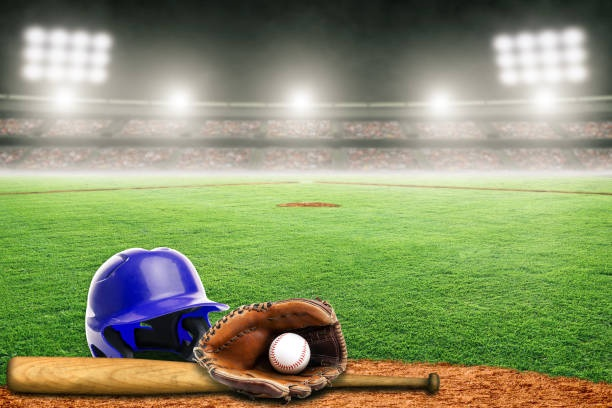bita: (9, 353, 437, 400)
